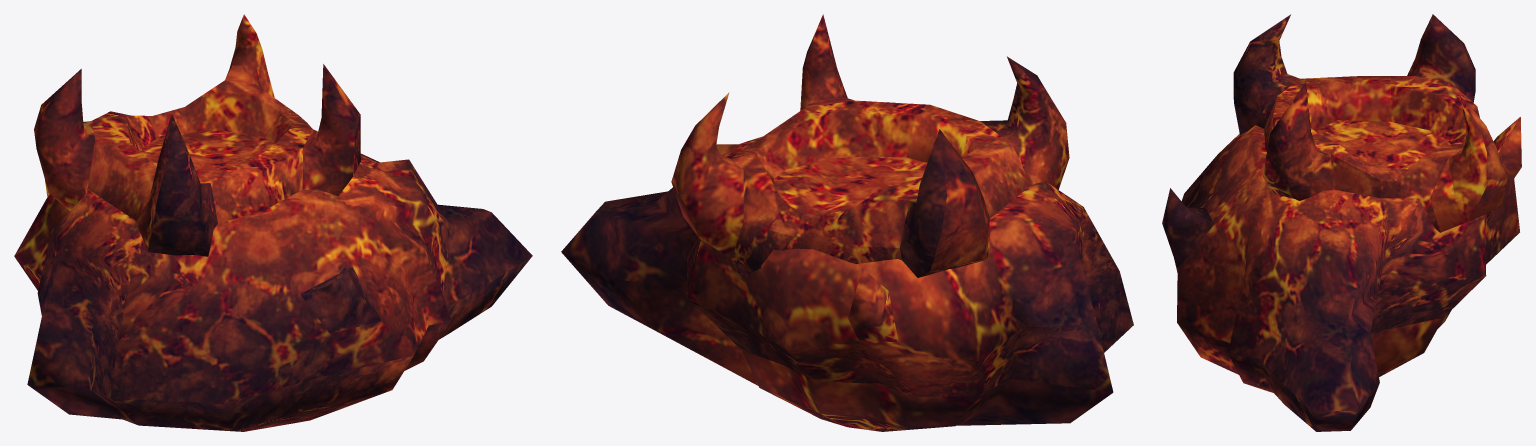
The model's file is Scene_huolu_002_p2.FBX.
The picture shows the model from 3 angles, left to right: view 1: azimuth 30°, elevation 25°; view 2: azimuth 150°, elevation 25°; view 3: azimuth 270°, elevation 25°; orthographic projection. The views are drawn at different scales.
Visible parts, largest first — view 1: Scene_huolu_002_p2; view 2: Scene_huolu_002_p2; view 3: Scene_huolu_002_p2.
Part boxes in pixels (box(x1,y1,x2,y2)): Scene_huolu_002_p2: box(14, 14, 532, 431); Scene_huolu_002_p2: box(561, 14, 1133, 431); Scene_huolu_002_p2: box(1162, 14, 1521, 431).
Size of the model in its own units: 5.76 by 3.82 by 3.88.
